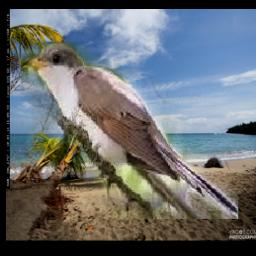Cuckoo: (21, 42, 238, 219)
